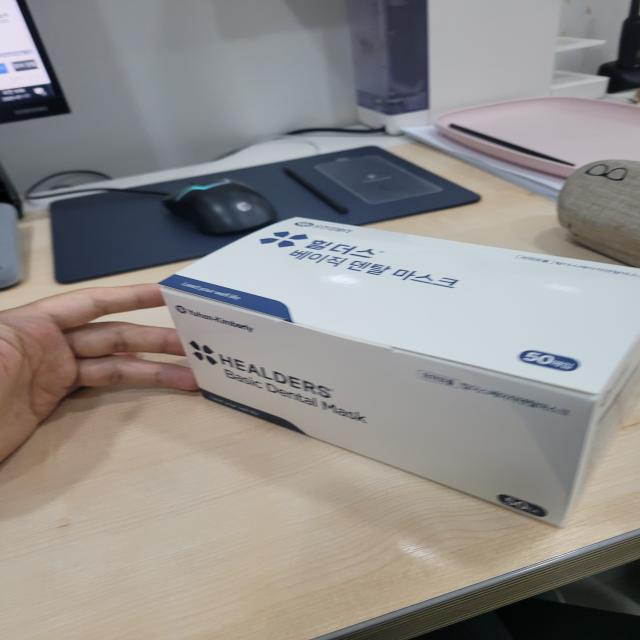mask: (114, 205, 640, 544)
